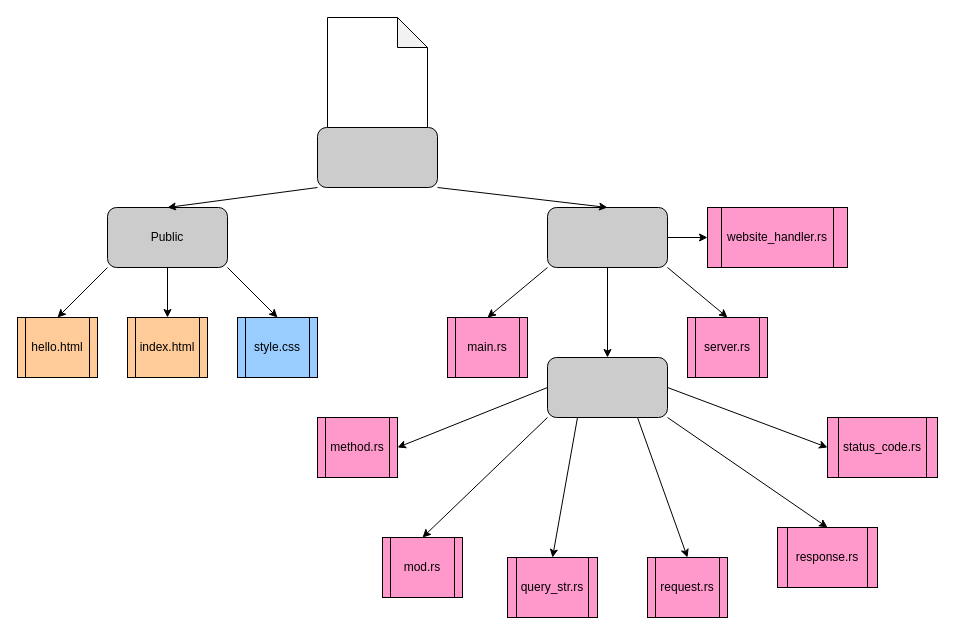
The diagram is 955 pixels wide and 635 high, and some of its shapes have lost their labels. The shapes that lost their labels are listed below. From the top down, each one's box as (x1, y1, x2, y2) in pixels, then its label:
(326, 16, 428, 128): Cargo toml No dependencies
(316, 126, 438, 188): Server From Scratch
(546, 206, 668, 268): Src
(546, 356, 668, 418): http
